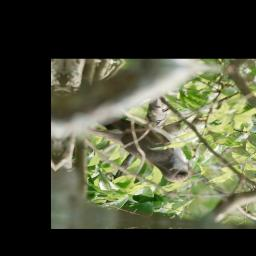Cuckoo: (79, 113, 206, 185)
